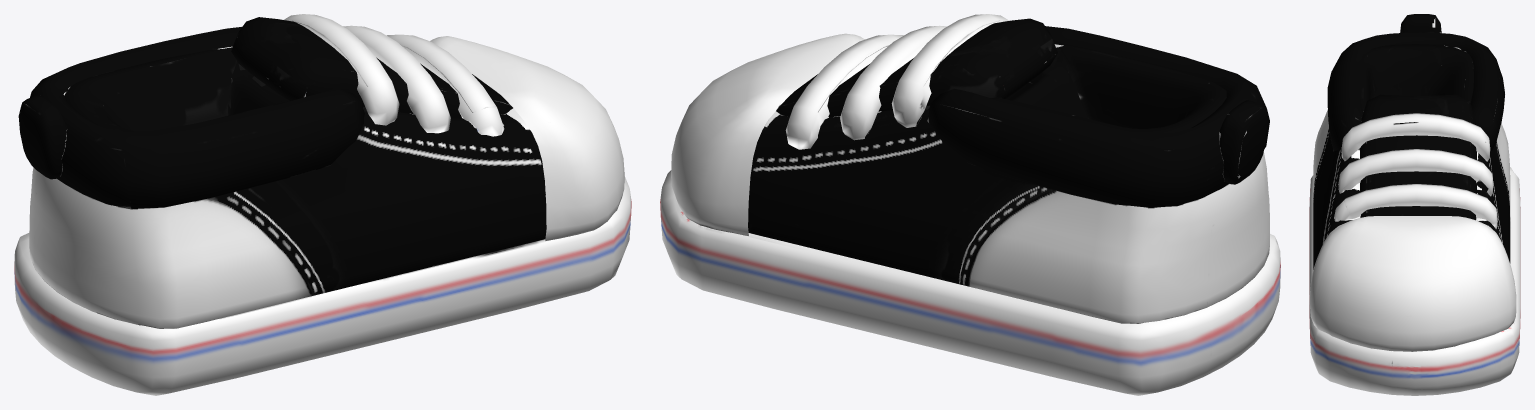
File: zapato uv.fbx
The picture shows the model from 3 angles, left to right: view 1: azimuth 30°, elevation 25°; view 2: azimuth 150°, elevation 25°; view 3: azimuth 270°, elevation 25°; orthographic projection. The views are drawn at different scales.
Parts seen in each view (by area): view 1: Cubo.005; view 2: Cubo.005; view 3: Cubo.005.
Boxes of the visible parts, x1,y1,x2,y2 form: Cubo.005: (14, 14, 631, 395); Cubo.005: (660, 14, 1280, 395); Cubo.005: (1309, 14, 1520, 395).
Bounding box in the file's own units: 908 × 401 × 392.
